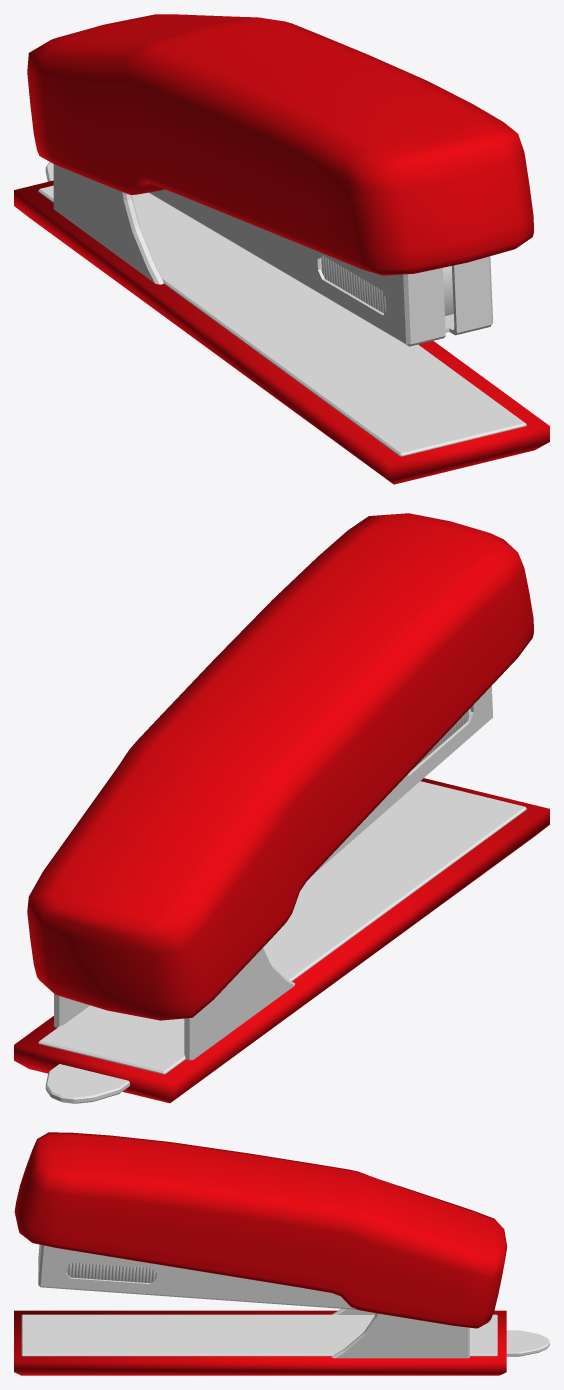
The model's file is stapler.glb.
The picture shows the model from 3 angles, top to bottom: view 1: azimuth 30°, elevation 25°; view 2: azimuth 150°, elevation 25°; view 3: azimuth 270°, elevation 25°; orthographic projection. The views are drawn at different scales.
Visible parts, largest first — view 1: 立方体.014; view 2: 立方体.014; view 3: 立方体.014.
Part boxes in pixels (box(x1,y1,x2,y2)): 立方体.014: box(14, 14, 549, 484); 立方体.014: box(14, 513, 549, 1103); 立方体.014: box(14, 1132, 549, 1375).
Size of the model in its own units: 1.43 by 2.6 by 6.23.
